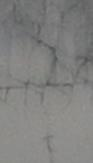fissura: (0, 0, 91, 108)
